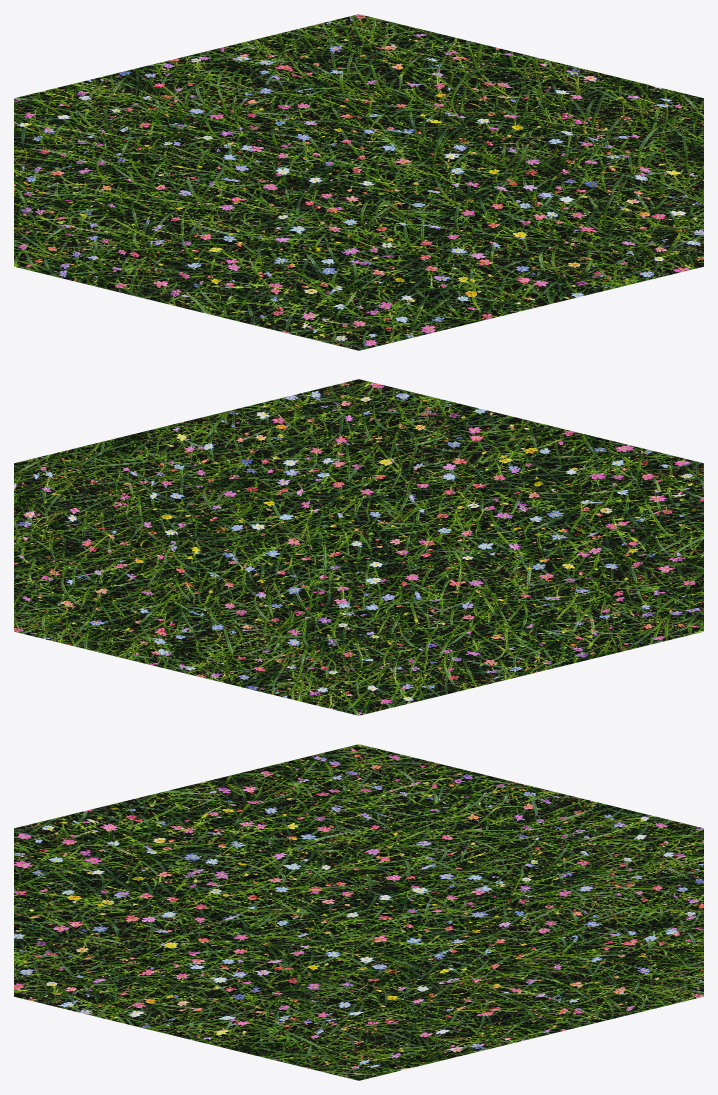
File: hex_grass_flowers.glb
The picture shows the model from 3 angles, top to bottom: view 1: azimuth 30°, elevation 25°; view 2: azimuth 150°, elevation 25°; view 3: azimuth 270°, elevation 25°; orthographic projection.
Visible parts, largest first — view 1: HexGrassFlowers; view 2: HexGrassFlowers; view 3: HexGrassFlowers.
Boxes of the visible parts, x1,y1,x2,y2 form: HexGrassFlowers: (14,14,703,350); HexGrassFlowers: (14,379,703,715); HexGrassFlowers: (14,744,703,1080).
Size of the model in its own units: 2 by 0 by 1.73.
1 material, 1 textured.
